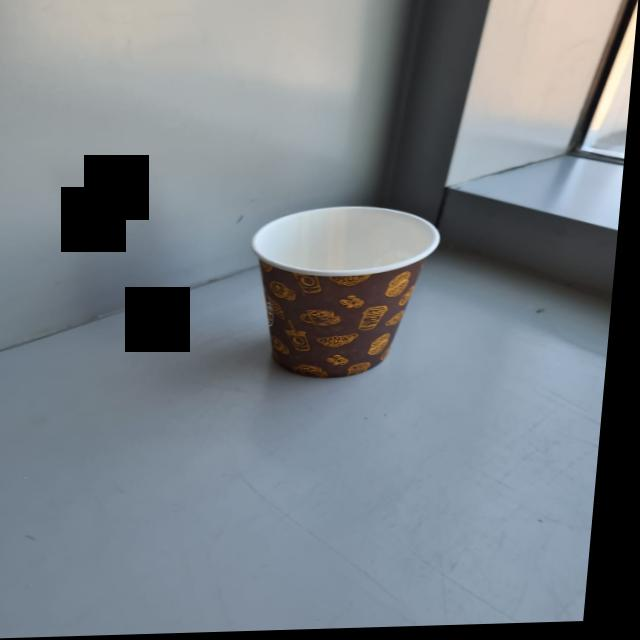cups: (247, 206, 452, 383)
